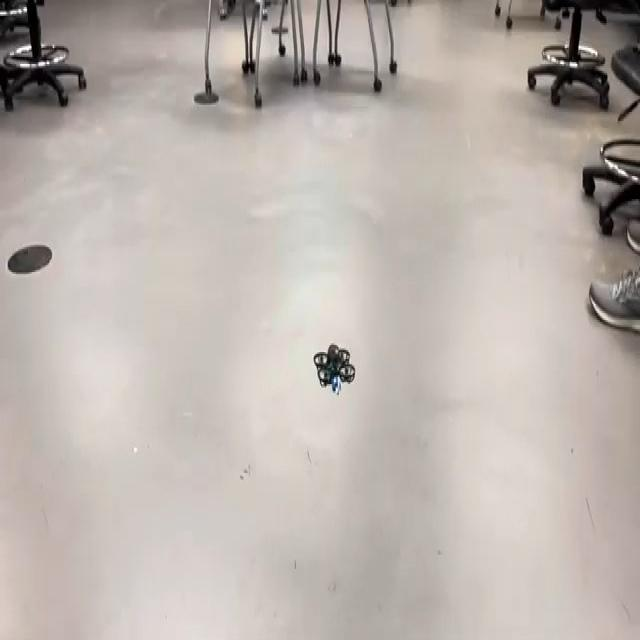drone: (302, 324, 359, 410)
